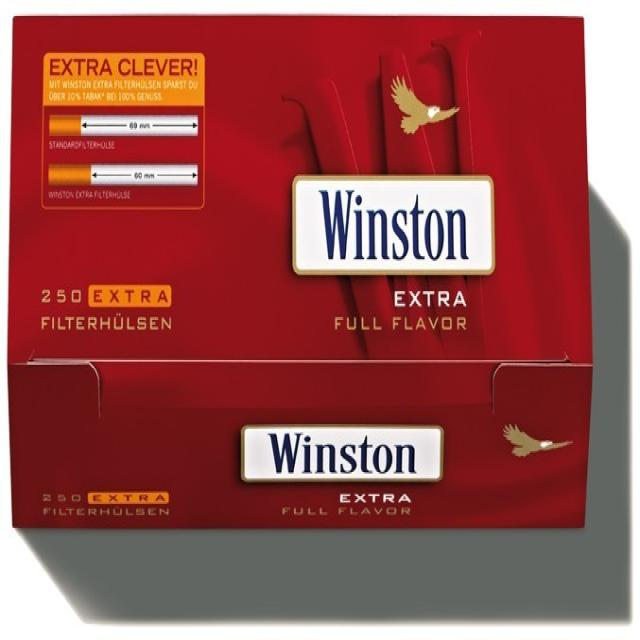winston: (9, 12, 594, 534)
